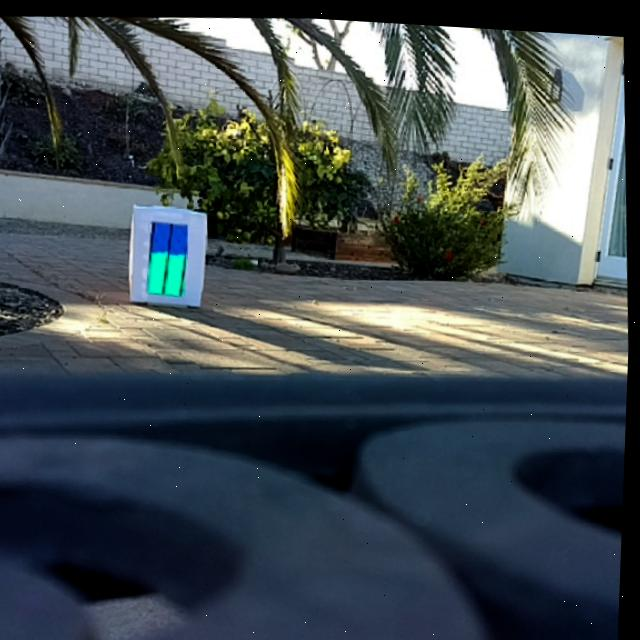led: (145, 216, 195, 297)
